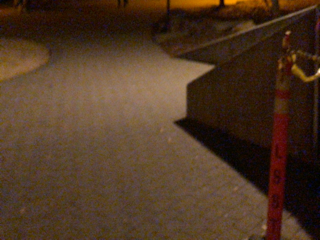Edge: (1, 35, 49, 86)
Obstacle: (177, 25, 318, 237)
